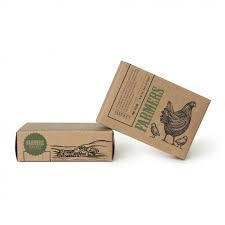box: (96, 60, 211, 161), (15, 122, 115, 163)
